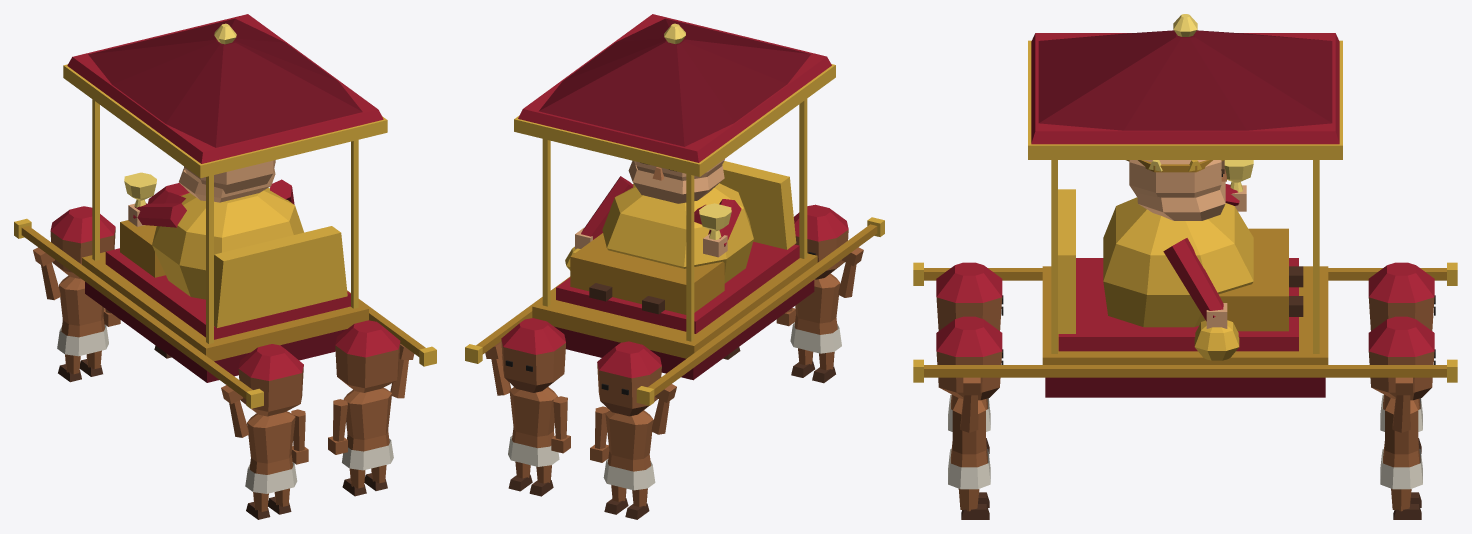
File: EN_GildedPatron.fbx
The picture shows the model from 3 angles, left to right: view 1: azimuth 30°, elevation 25°; view 2: azimuth 150°, elevation 25°; view 3: azimuth 270°, elevation 25°; orthographic projection. The views are drawn at different scales.
Visible parts, largest first — view 1: Body, Root, Head, ArmL, BLeg3L, BLeg0L, BLeg2L; view 2: Body, Root, Head, ArmL, ArmR, BLeg2L, BLeg1L, BLeg0L, BLeg1R, BLeg0R; view 3: Body, Root, Head, ArmR, ArmL, BLeg1R, BLeg3R.
Part boxes in pixels (x1,y1,x2,y2): Body: [63, 14, 387, 382]; Root: [14, 183, 436, 493]; Head: [179, 160, 275, 202]; ArmL: [124, 172, 186, 227]; BLeg3L: [342, 468, 366, 496]; BLeg0L: [58, 354, 81, 382]; BLeg2L: [246, 492, 270, 519]; Body: [514, 14, 835, 380]; Root: [465, 204, 884, 490]; Head: [628, 159, 724, 203]; ArmL: [699, 199, 741, 257]; ArmR: [565, 176, 633, 270]; BLeg2L: [812, 352, 835, 383]; BLeg1L: [529, 465, 553, 496]; BLeg0L: [625, 488, 649, 519]; BLeg1R: [508, 461, 532, 491]; BLeg0R: [604, 485, 628, 514]; Body: [1028, 14, 1342, 397]; Root: [913, 262, 1457, 489]; Head: [1126, 160, 1226, 220]; ArmR: [1163, 238, 1239, 360]; ArmL: [1224, 160, 1253, 211]; BLeg1R: [1391, 488, 1421, 519]; BLeg3R: [958, 489, 989, 519].
Bounding box in the file's own units: 2.14 × 4.69 × 4.45.
